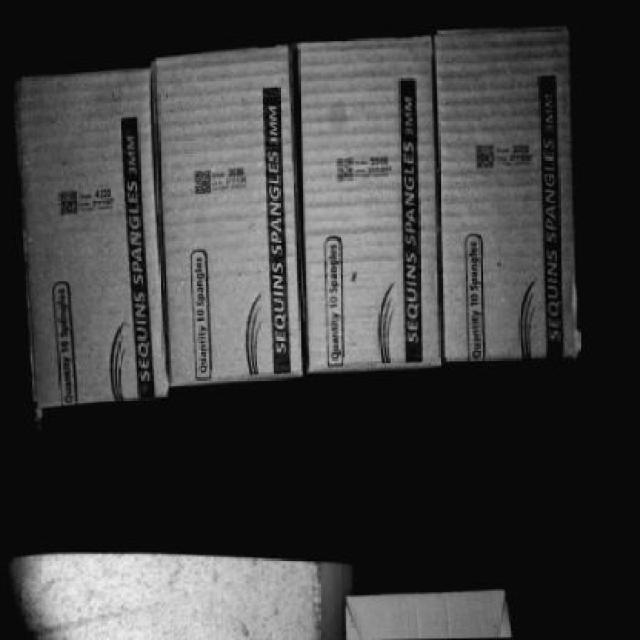box: (158, 56, 306, 382), (20, 76, 168, 401), (303, 40, 443, 371), (444, 29, 578, 354)
